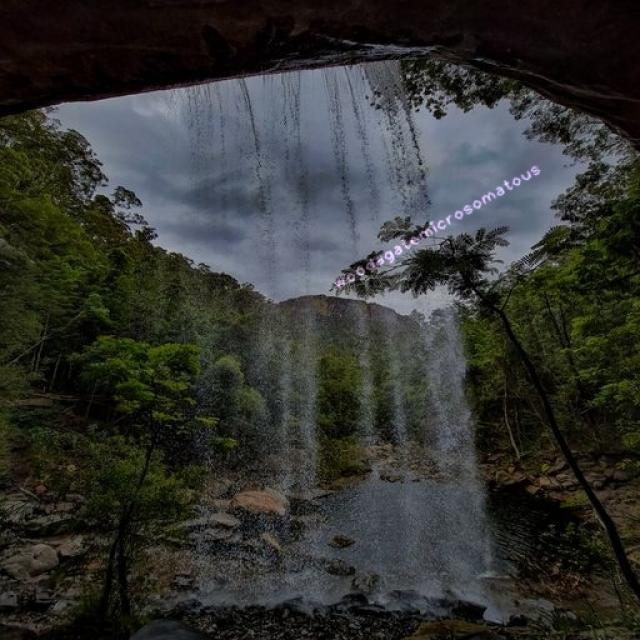watermark: (332, 158, 542, 292)
